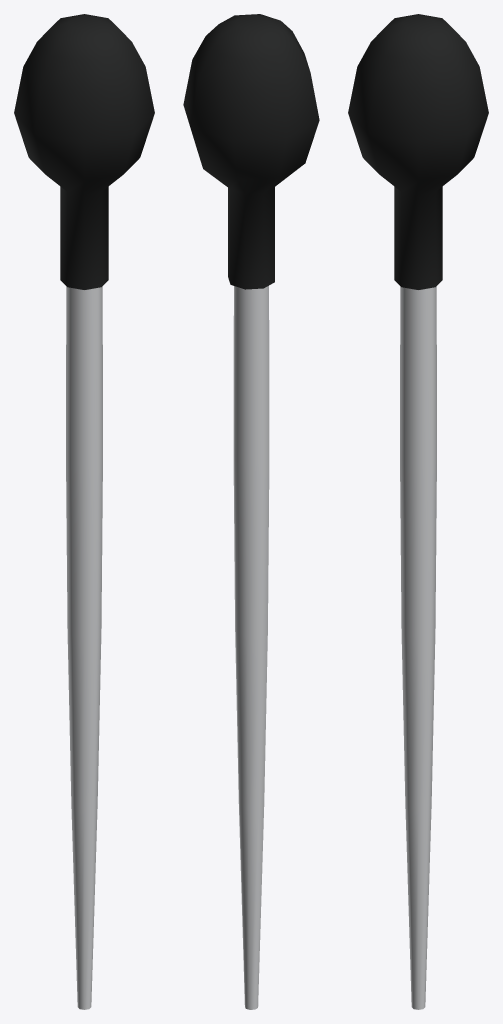
The model's file is bottle_pipet.glb.
The picture shows the model from 3 angles, left to right: view 1: azimuth 90°, elevation 25°; view 2: azimuth 210°, elevation 25°; view 3: azimuth 270°, elevation 25°; orthographic projection.
Parts seen in each view (by area): view 1: bottle_pipet; view 2: bottle_pipet; view 3: bottle_pipet.
Boxes of the visible parts, left/top/right/bottom form: bottle_pipet: left=14, top=14, right=154, bottom=1009; bottle_pipet: left=183, top=14, right=319, bottom=1009; bottle_pipet: left=348, top=14, right=488, bottom=1009.
Size of the model in its own units: 3.9 by 30.05 by 3.9.
Materials: 2 (2 with a texture image).
